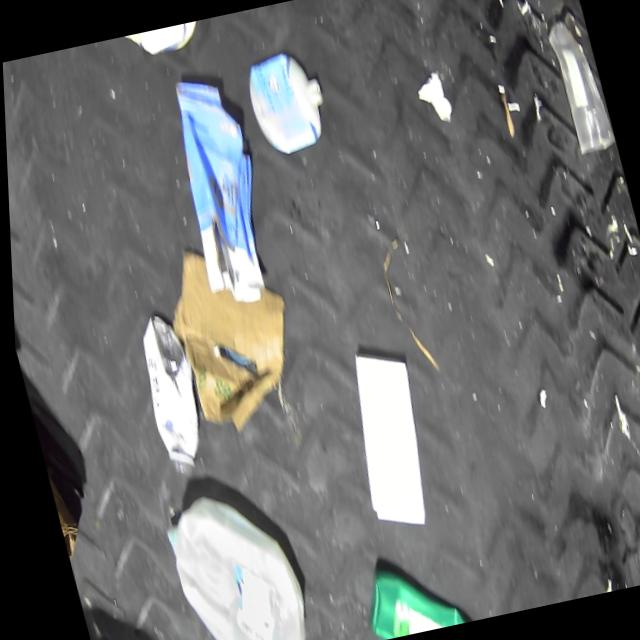milk_jug: (151, 477, 311, 640)
plastic_bottle: (122, 309, 219, 480)
